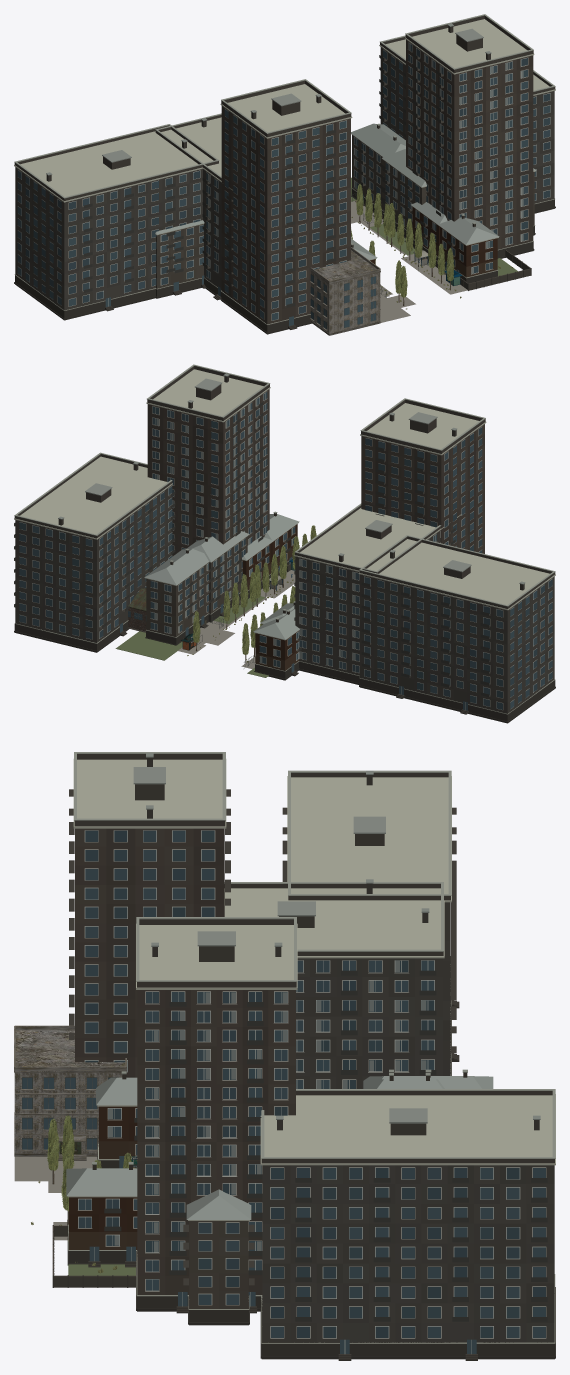
File: neighbourhood-v7.glb
3 views of the same model, one above another, from view 1: azimuth 30°, elevation 25°; view 2: azimuth 150°, elevation 25°; view 3: azimuth 270°, elevation 25° (orthographic). The views are drawn at different scales.
Parts seen in each view (by area): view 1: residential-chunk-0, residential-chunk-2, residential-chunk-4, residential-chunk-1, residential-chunk-3; view 2: residential-chunk-0, residential-chunk-3, residential-chunk-2, residential-chunk-1, residential-chunk-4; view 3: residential-chunk-3, residential-chunk-2, residential-chunk-1, residential-chunk-0, residential-chunk-4.
Boxes of the visible parts, bbox=[...] form: residential-chunk-0: bbox=[14, 123, 536, 320]; residential-chunk-2: bbox=[155, 14, 534, 302]; residential-chunk-4: bbox=[220, 79, 447, 334]; residential-chunk-1: bbox=[155, 113, 531, 335]; residential-chunk-3: bbox=[351, 35, 555, 302]; residential-chunk-0: bbox=[144, 535, 555, 723]; residential-chunk-3: bbox=[14, 452, 316, 660]; residential-chunk-2: bbox=[127, 364, 307, 680]; residential-chunk-1: bbox=[178, 503, 461, 684]; residential-chunk-4: bbox=[242, 398, 486, 598]; residential-chunk-3: bbox=[61, 1073, 555, 1360]; residential-chunk-2: bbox=[94, 917, 493, 1313]; residential-chunk-1: bbox=[14, 882, 444, 1287]; residential-chunk-0: bbox=[31, 770, 459, 1325]; residential-chunk-4: bbox=[69, 752, 230, 1077].
Size of the model in its own units: 125 by 50.75 by 72.99.
Materials: 12 (6 with a texture image).
